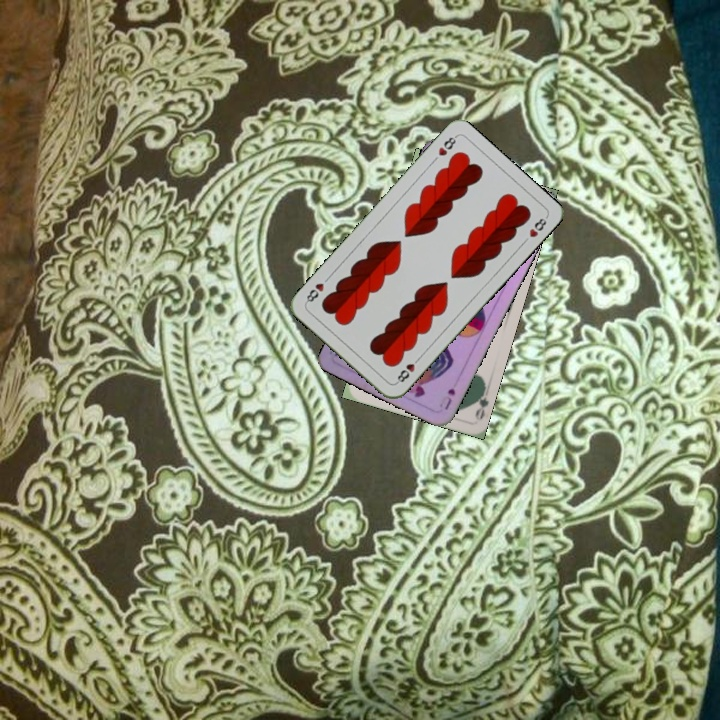GO: (469, 381, 490, 422)
H8: (392, 353, 423, 386), (434, 132, 459, 158)
SU: (435, 384, 458, 413)
